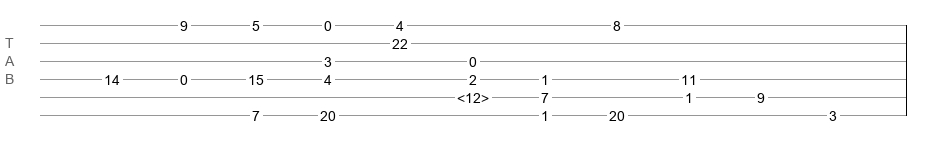0: (180, 72, 188, 82), (324, 18, 332, 28), (469, 54, 477, 64)
1: (541, 72, 549, 82), (541, 108, 549, 118), (685, 90, 693, 100)
11: (681, 72, 697, 82)
14: (104, 72, 120, 82)
15: (248, 72, 264, 82)
2: (469, 72, 477, 82)
20: (320, 108, 336, 118), (609, 108, 625, 118)
22: (392, 36, 408, 46)
3: (324, 54, 332, 64), (829, 108, 837, 118)
4: (324, 72, 332, 82), (396, 18, 404, 28)
5: (252, 18, 260, 28)
7: (252, 108, 260, 118), (541, 90, 549, 100)
8: (613, 18, 621, 28)
9: (180, 18, 188, 28), (757, 90, 765, 100)
harmonic: (457, 90, 489, 100)
